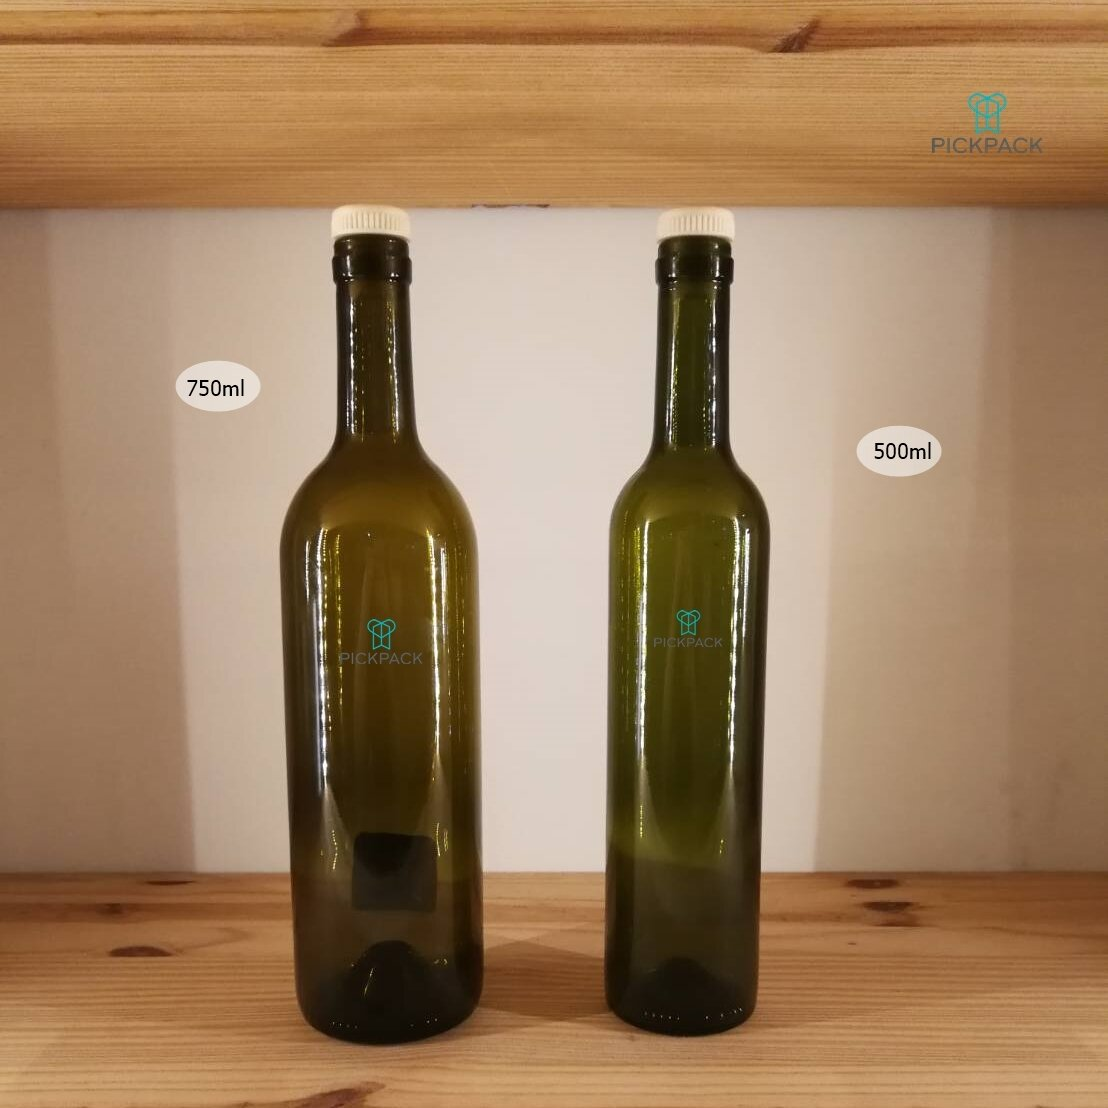glass_bottle: (269, 192, 501, 1053), (572, 199, 799, 1051)
